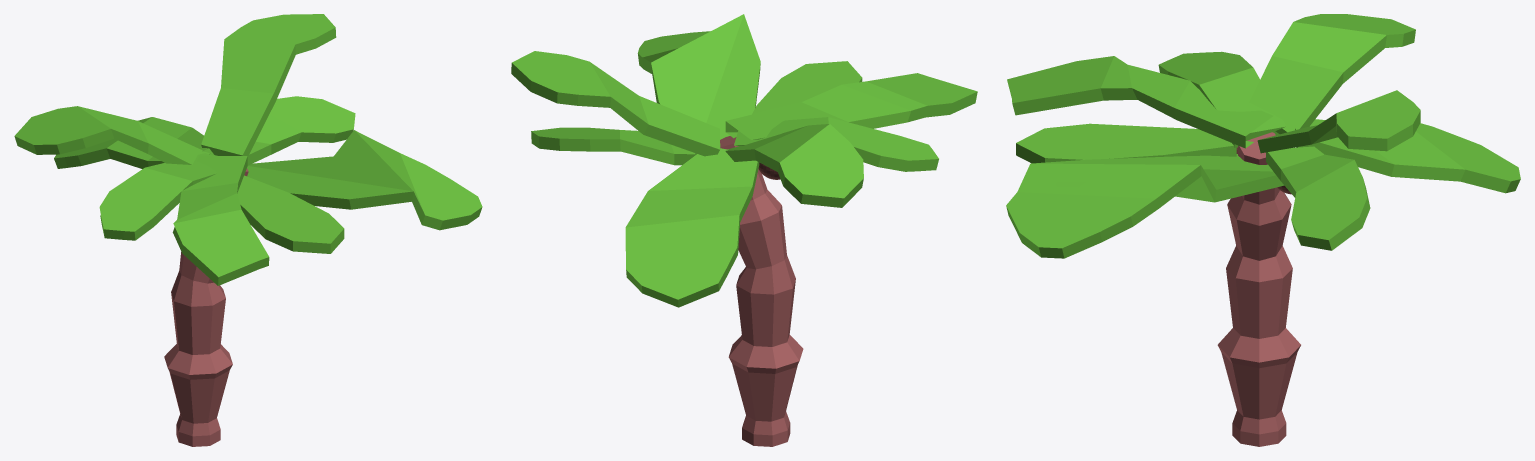
The model's file is palmTree.fbx.
3 views of the same model, side by side, from view 1: azimuth 30°, elevation 25°; view 2: azimuth 150°, elevation 25°; view 3: azimuth 270°, elevation 25° (orthographic). The views are drawn at different scales.
Parts seen in each view (by area): view 1: Cube, Cylinder; view 2: Cube, Cylinder; view 3: Cube, Cylinder.
Part boxes in pixels (x1,y1,x2,y2): Cube: [14, 14, 482, 285]; Cylinder: [164, 168, 248, 446]; Cube: [511, 14, 977, 307]; Cylinder: [720, 136, 803, 446]; Cube: [1006, 14, 1520, 258]; Cylinder: [1217, 132, 1300, 446].
Bounding box in the file's own units: 276 × 278 × 324.
